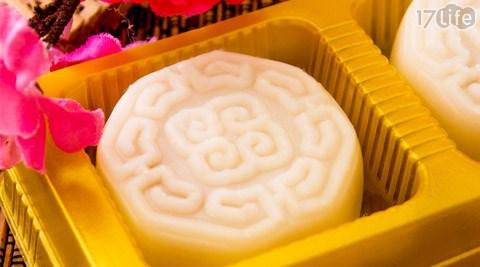MoonCake: (97, 48, 363, 266)
